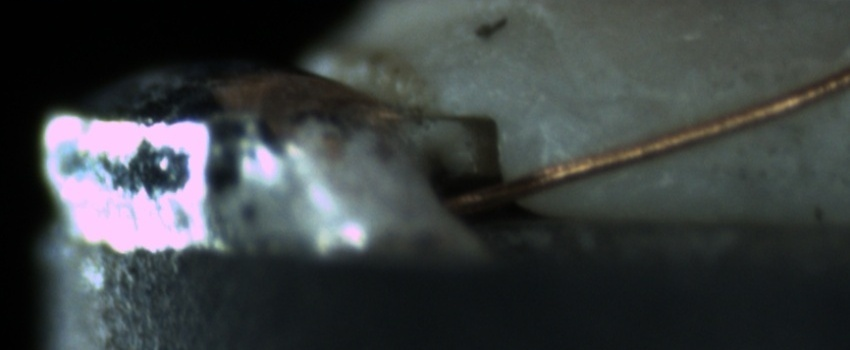DL: (532, 70, 690, 138)
